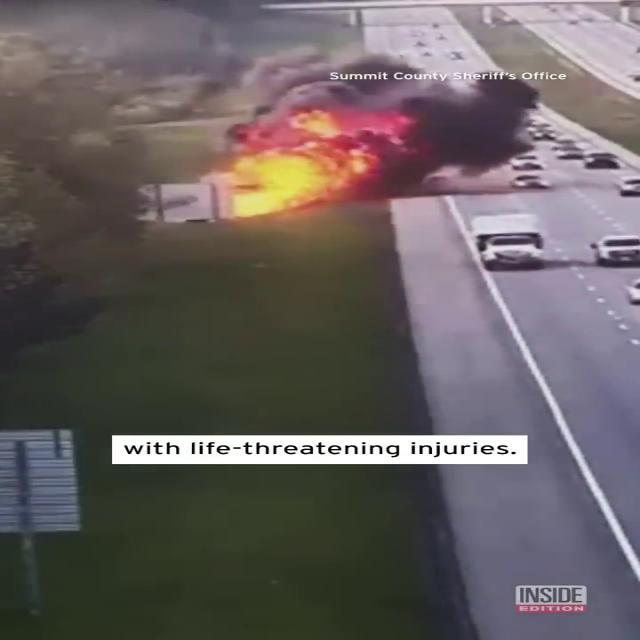Fire: (198, 110, 384, 222)
Smoke: (298, 63, 538, 176)
